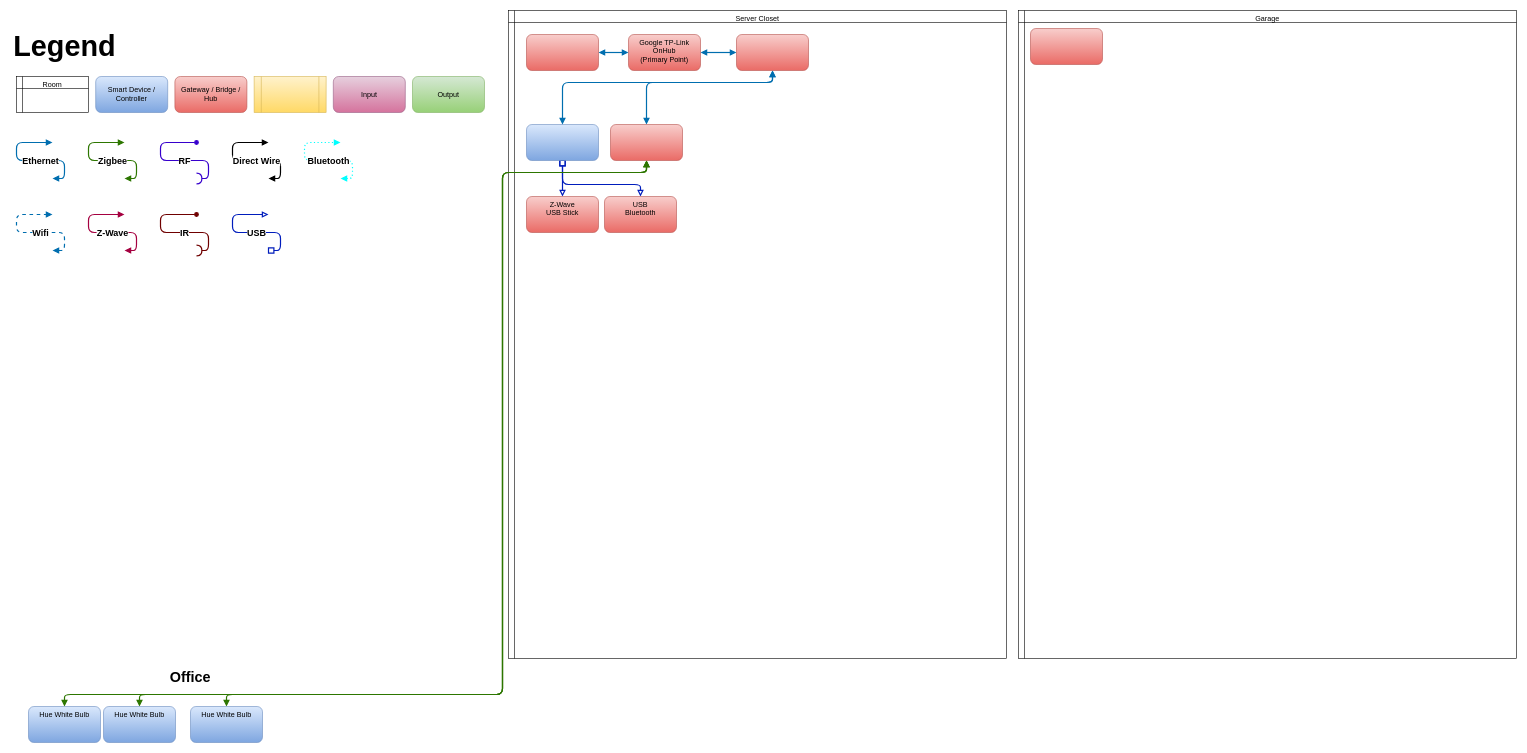
Image size: 1527x753. Some labels were removed from this diagram. The shapes that lost their labels are listed below. From the top down, each one's centre as x and y in pixels, then its label:
At (x=562, y=52): "Internet Modem".
At (x=772, y=52): "Gigabit Ethernet Switch".
At (x=1066, y=46): "Garage Wifi Point".
At (x=290, y=94): "Circuit".
At (x=562, y=142): "HA Blue".
At (x=646, y=142): "Phillips Hue Bridge".
